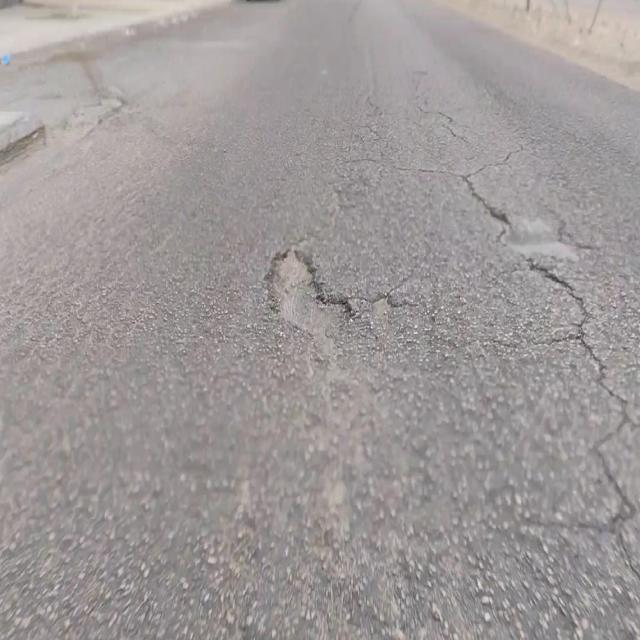Potholes: (264, 245, 354, 344)
